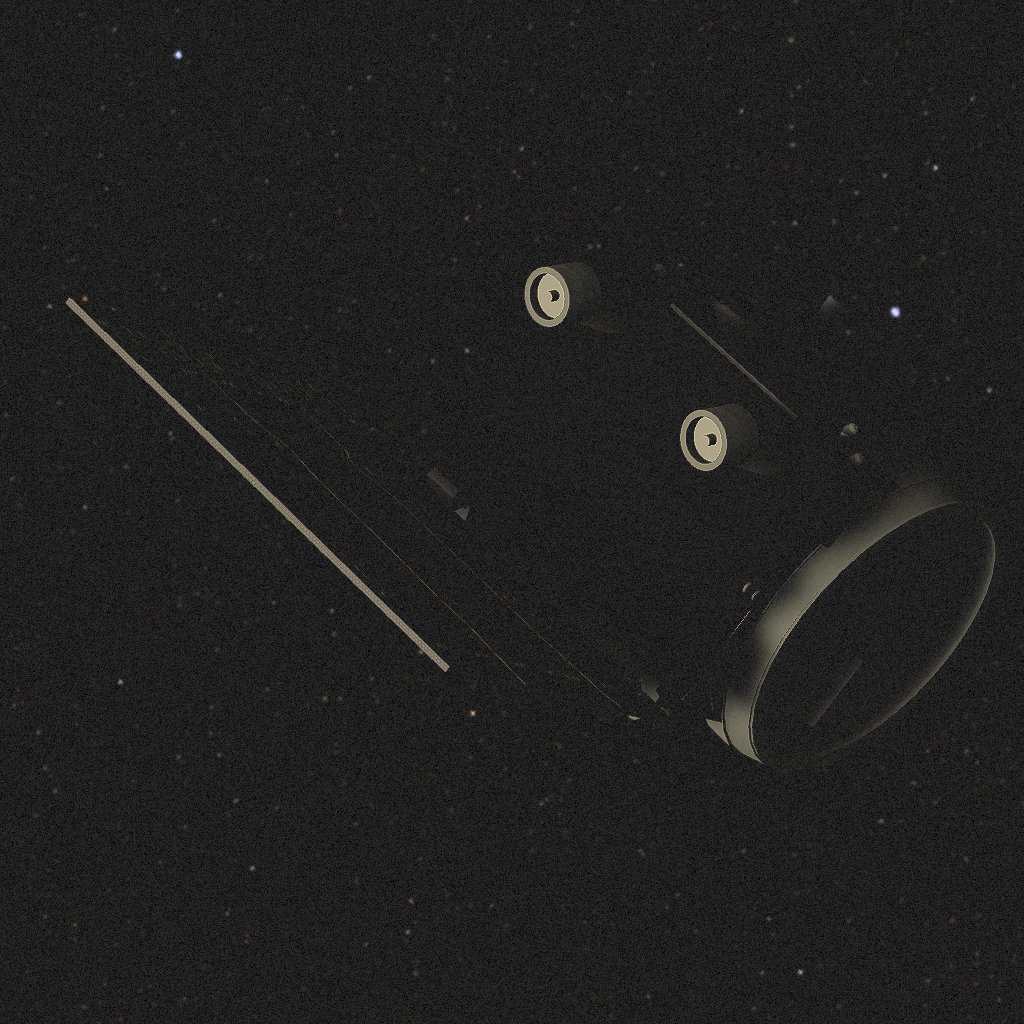proba_3_csc: (85, 219, 982, 773)
